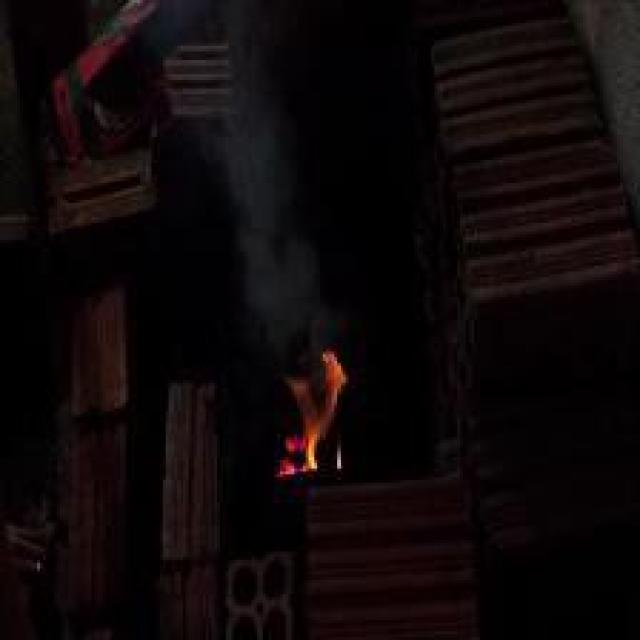fire: (256, 334, 354, 477)
